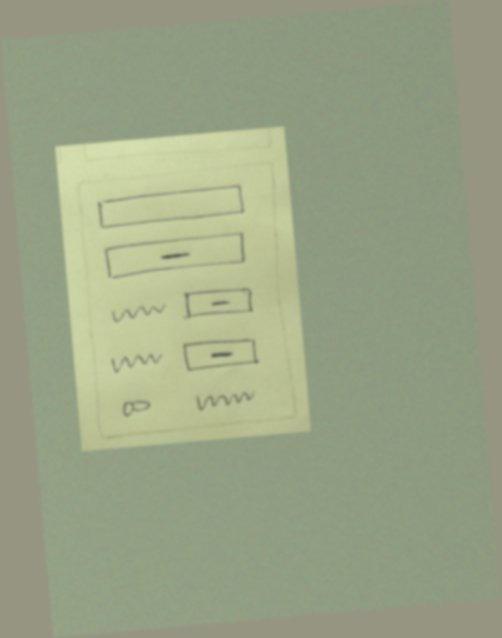button: (98, 230, 251, 282), (178, 282, 257, 324), (181, 334, 261, 375)
switch: (116, 395, 155, 420)
text: (106, 300, 170, 327), (194, 387, 259, 413), (105, 349, 169, 375)
text_input: (94, 184, 247, 231)
